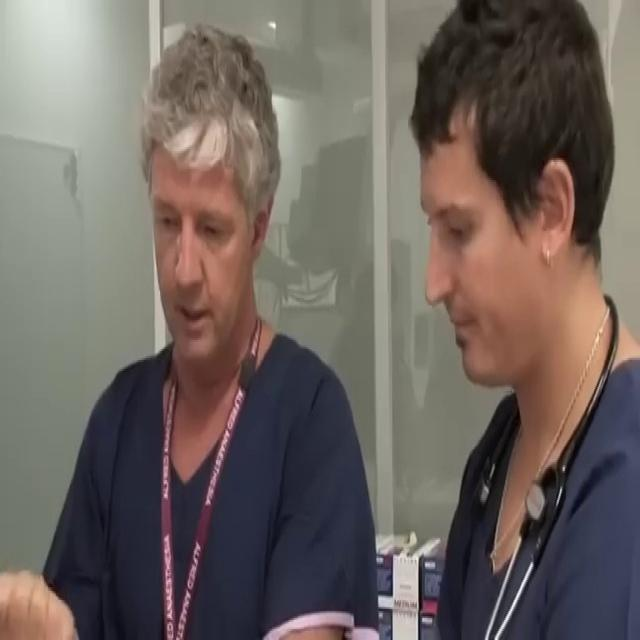doctor: (9, 22, 382, 638), (408, 0, 639, 636)
